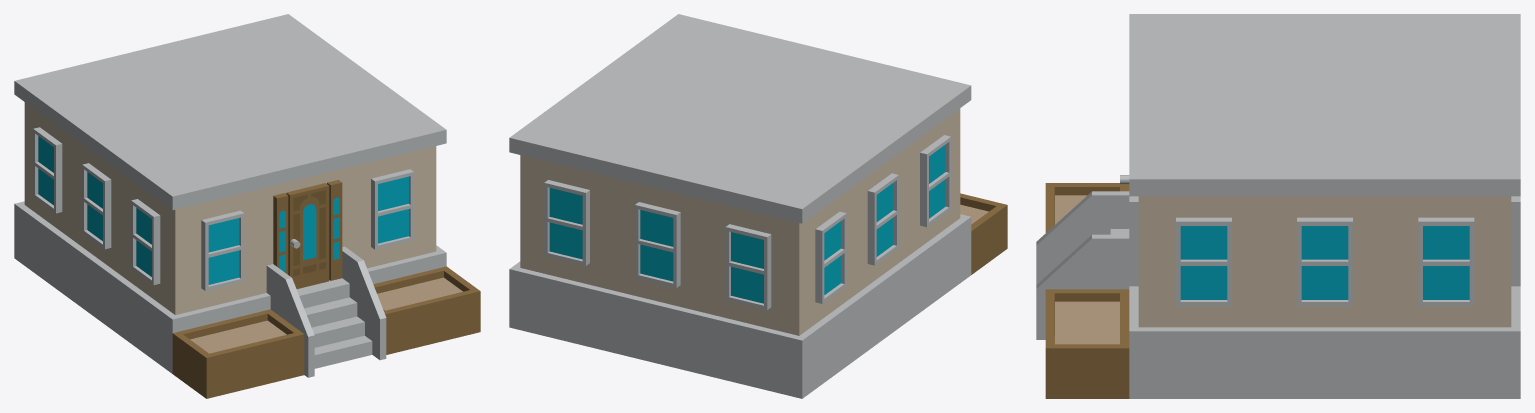
3 views of the same model, side by side, from view 1: azimuth 30°, elevation 25°; view 2: azimuth 150°, elevation 25°; view 3: azimuth 270°, elevation 25° (orthographic). The views are drawn at different scales.
Parts seen in each view (by area): view 1: Mesh_Mesh_head_geo.001_lambert2SG.001; view 2: Mesh_Mesh_head_geo.001_lambert2SG.001; view 3: Mesh_Mesh_head_geo.001_lambert2SG.001.
Boxes of the visible parts, x1,y1,x2,y2 form: Mesh_Mesh_head_geo.001_lambert2SG.001: (14, 14, 480, 398); Mesh_Mesh_head_geo.001_lambert2SG.001: (509, 14, 1007, 398); Mesh_Mesh_head_geo.001_lambert2SG.001: (1036, 14, 1520, 398).
Size of the model in its own units: 0.042 by 0.026 by 0.052.
